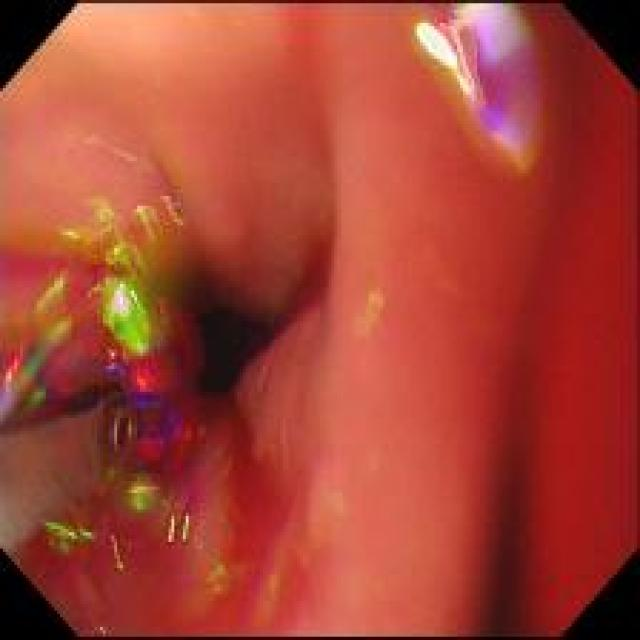blood: (22, 245, 309, 622)
blur: (442, 5, 637, 634)
color misalignment: (447, 1, 552, 169), (90, 245, 186, 405), (2, 275, 98, 418), (130, 415, 209, 517), (41, 507, 98, 553), (62, 190, 110, 234), (156, 189, 198, 226), (124, 203, 165, 240), (167, 510, 195, 548), (205, 559, 227, 596)
contrast: (480, 423, 549, 636), (191, 294, 274, 390)
instrument: (2, 402, 168, 543)
specularity: (418, 19, 474, 92), (110, 283, 130, 316), (121, 485, 156, 494)
